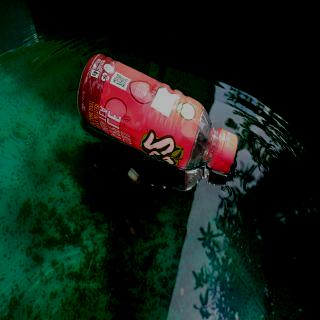bottle: (76, 52, 240, 175)
